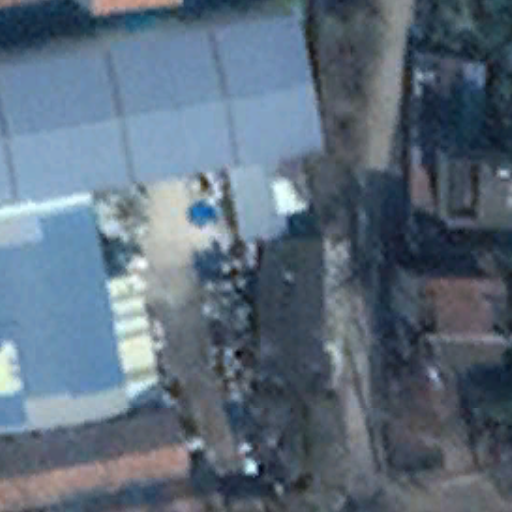msw: (187, 178, 253, 439), (99, 184, 160, 283)
